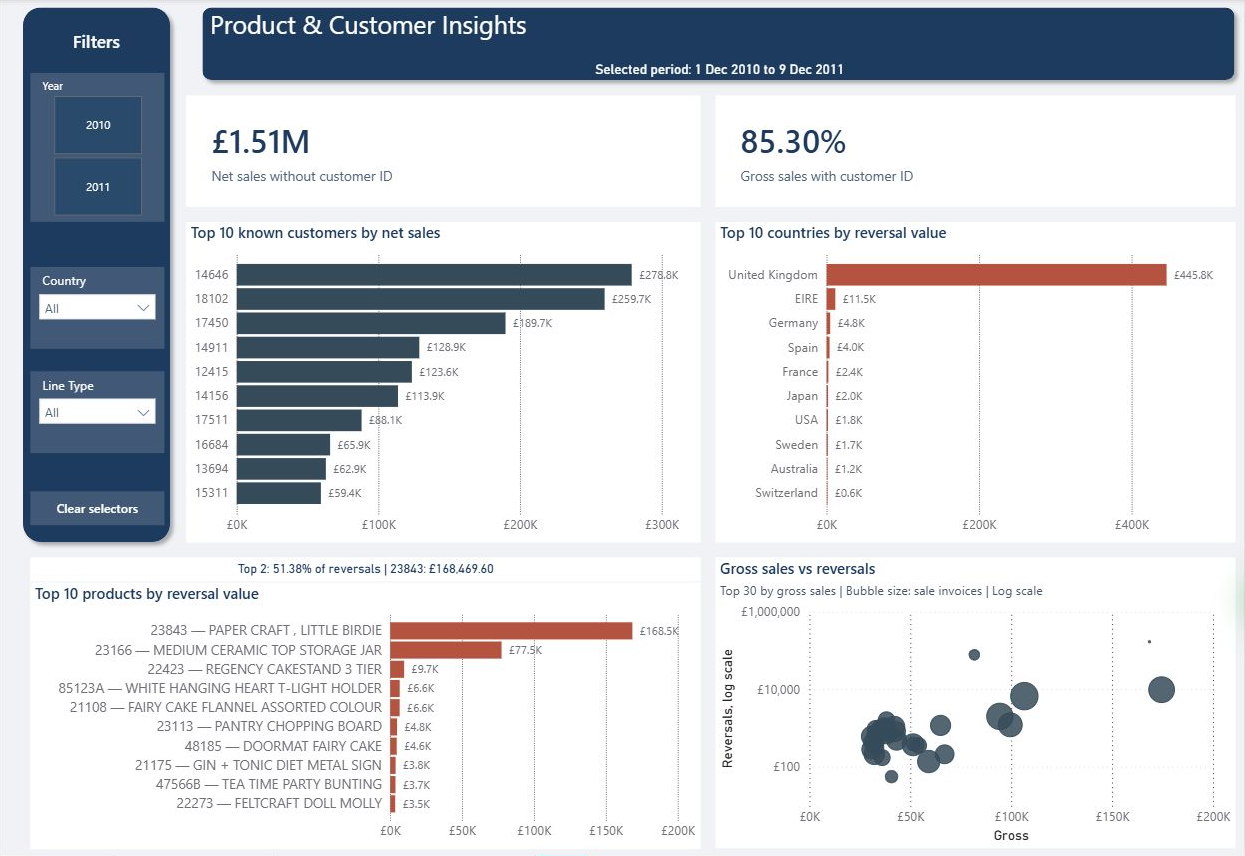

Layout of this report page (visuals, bound fields, positions):
{"tool":"powerbi","page":{"name":"Product & Customer Insights","canvas":[1336,920],"ordinal":1},"visuals":[{"type":"shape","box":[16,0,176,592],"z":0},{"type":"slicer","fields":{"Values":["Calendar.Year"]},"box":[32,80,144,160],"z":1000},{"type":"slicer","fields":{"Values":["Online Retail.Country"]},"box":[32,288,144,88],"z":2000},{"type":"slicer","fields":{"Values":["Online Retail.Line_Type"]},"box":[32,400,144,88],"z":3000},{"type":"shape","box":[208,0,1126,96],"z":4000},{"type":"textbox","title":"Online Retail Sales Dashboard","box":[225,8,1095,54],"z":5000},{"type":"card","fields":{"Values":["Online Retail.Report Context"]},"box":[225,64,1095,25],"z":6000},{"type":"textbox","title":"Filters","box":[16,32,176,40],"z":7000},{"type":"actionButton","title":"Clear all filters","box":[32,528,144,36],"z":8000},{"type":"cardVisual","fields":{"Data":["Online Retail.Identified Sales Share"]},"box":[768,104,558,120],"z":9000},{"type":"cardVisual","fields":{"Data":["Online Retail.Unidentified Net Sales"]},"box":[200,104,552,120],"z":10000},{"type":"clusteredBarChart","title":"Top 10 known customers by net sales","fields":{"Category":["Online Retail.Customer_ID"],"Y":["Online Retail.Net Sales"]},"box":[200,240,552,344],"z":11000},{"type":"clusteredBarChart","title":"Top 10 countries by reversal value","fields":{"Category":["Online Retail.Country"],"Y":["Online Retail.Return Value"]},"box":[768,240,558,344],"z":12000},{"type":"clusteredBarChart","title":"Top 10 products by reversal value","fields":{"Category":["DimProduct.Product_Label"],"Y":["Online Retail.Return Value"]},"box":[32,626,720,286],"z":13000},{"type":"scatterChart","title":"Gross sales vs reversals","fields":{"Category":["DimProduct.Product_Label"],"Size":["Online Retail.Orders"],"X":["Online Retail.Main Sales"],"Y":["Online Retail.Returns Amount"]},"box":[768,600,558,312],"z":14000},{"type":"card","fields":{"Values":["Online Retail.Product Reversal Note"]},"box":[32,600,720,26],"z":21000}]}

Visuals, with their boxes in screenshot pixels (x1, y1, x2, y2), scaled from the page's 1336x920 canvas onto the 1245x856 screenshot:
shape: x1=15, y1=0, x2=179, y2=551
slicer - Calendar.Year: x1=30, y1=74, x2=164, y2=223
slicer - Online Retail.Country: x1=30, y1=268, x2=164, y2=350
slicer - Online Retail.Line_Type: x1=30, y1=372, x2=164, y2=454
shape: x1=194, y1=0, x2=1243, y2=89
"Online Retail Sales Dashboard" textbox: x1=210, y1=7, x2=1230, y2=58
card - Online Retail.Report Context: x1=210, y1=60, x2=1230, y2=83
"Filters" textbox: x1=15, y1=30, x2=179, y2=67
"Clear all filters" actionButton: x1=30, y1=491, x2=164, y2=525
cardVisual - Online Retail.Identified Sales Share: x1=716, y1=97, x2=1236, y2=208
cardVisual - Online Retail.Unidentified Net Sales: x1=186, y1=97, x2=701, y2=208
"Top 10 known customers by net sales" clusteredBarChart: x1=186, y1=223, x2=701, y2=543
"Top 10 countries by reversal value" clusteredBarChart: x1=716, y1=223, x2=1236, y2=543
"Top 10 products by reversal value" clusteredBarChart: x1=30, y1=582, x2=701, y2=849
"Gross sales vs reversals" scatterChart: x1=716, y1=558, x2=1236, y2=849
card - Online Retail.Product Reversal Note: x1=30, y1=558, x2=701, y2=582
